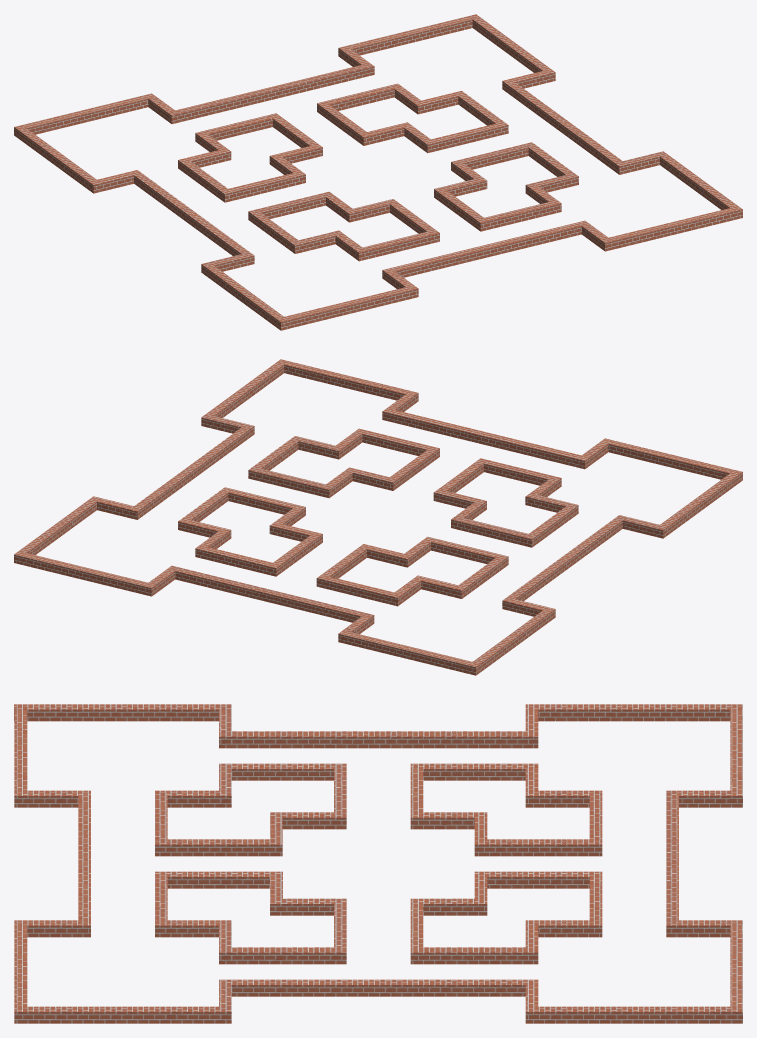
Rendered from maze.obj.
The picture shows the model from 3 angles, top to bottom: view 1: azimuth 30°, elevation 25°; view 2: azimuth 150°, elevation 25°; view 3: azimuth 270°, elevation 25°; orthographic projection. The views are drawn at different scales.
Visible parts, largest first — view 1: Plane; view 2: Plane; view 3: Plane.
Part boxes in pixels (bbox=[...]): Plane: bbox=[14, 14, 742, 330]; Plane: bbox=[14, 359, 742, 675]; Plane: bbox=[14, 704, 742, 1023].
Bounding box in the file's own units: 57 × 1 × 57.03.
1 material, 1 textured.
